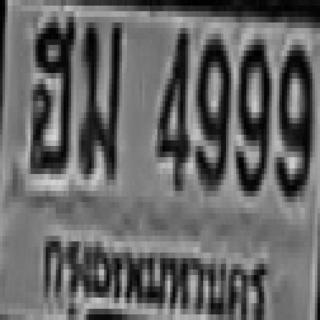A33: (77, 20, 121, 177)
A44: (28, 14, 74, 171)
N04: (155, 22, 188, 185)
N09: (274, 39, 310, 197), (234, 34, 269, 191), (194, 34, 227, 185)
